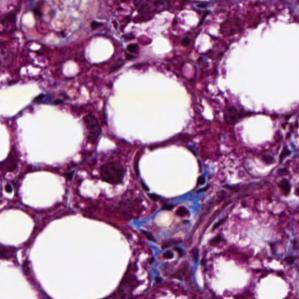inflammation: (136, 227, 192, 268), (273, 137, 299, 200), (115, 28, 156, 58)
